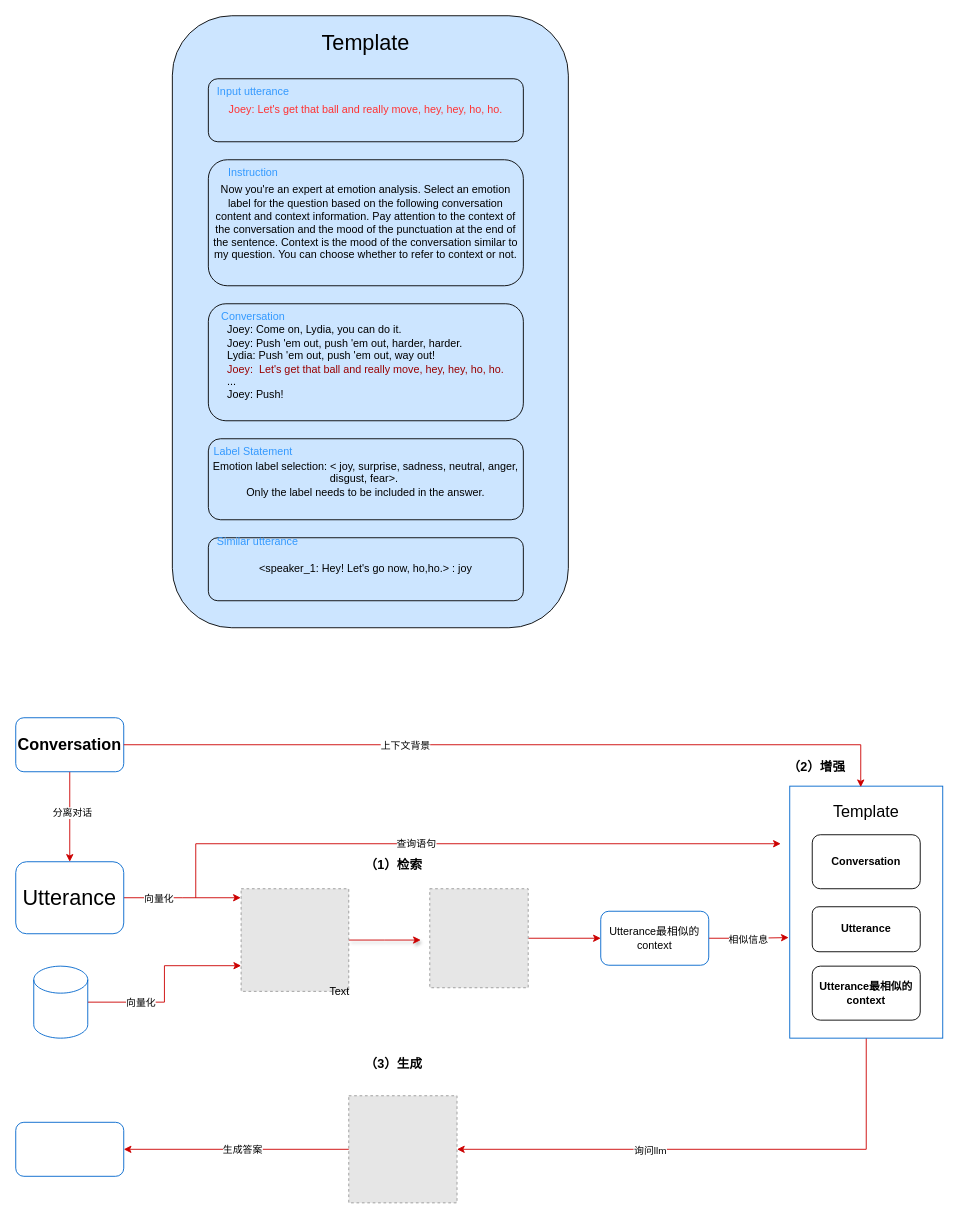
Image size: 959x1219. Some labels were removed from this diagram. Grey dashed boxes stand in for pictures. Here are the shapes that lost their labels. From the top down, the centre of each, then its label:
At (60,1001): "知识库".
At (69,1148): "emotion label".
